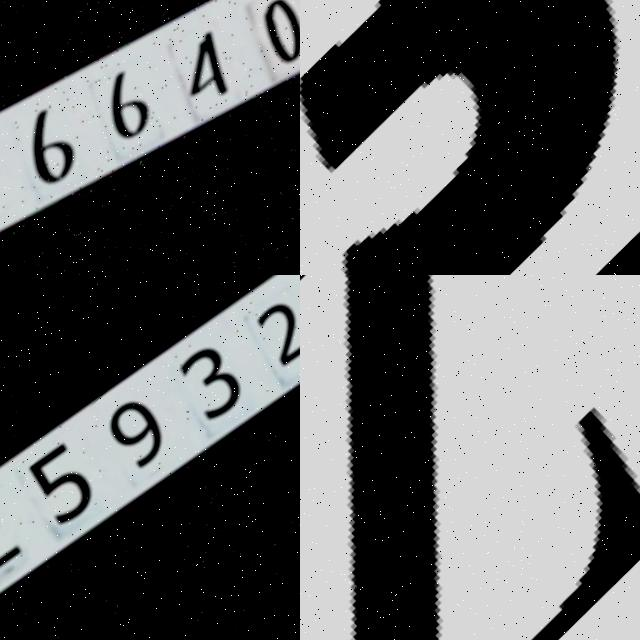0: (222, 0, 300, 104)
2: (230, 285, 300, 392), (0, 474, 47, 597)
3: (300, 0, 640, 275), (152, 328, 268, 449)
4: (138, 12, 265, 144)
5: (1, 424, 124, 552)
6: (0, 82, 112, 220), (64, 50, 183, 174), (0, 123, 32, 258)
9: (80, 378, 193, 497)
Z: (300, 275, 640, 640)
